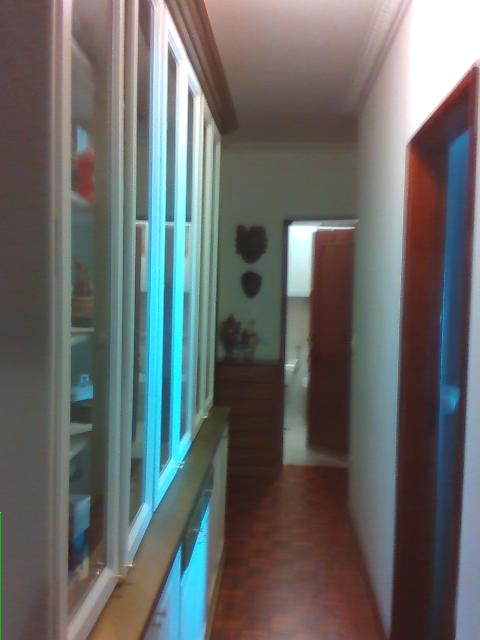semi_door: (279, 214, 357, 466)
